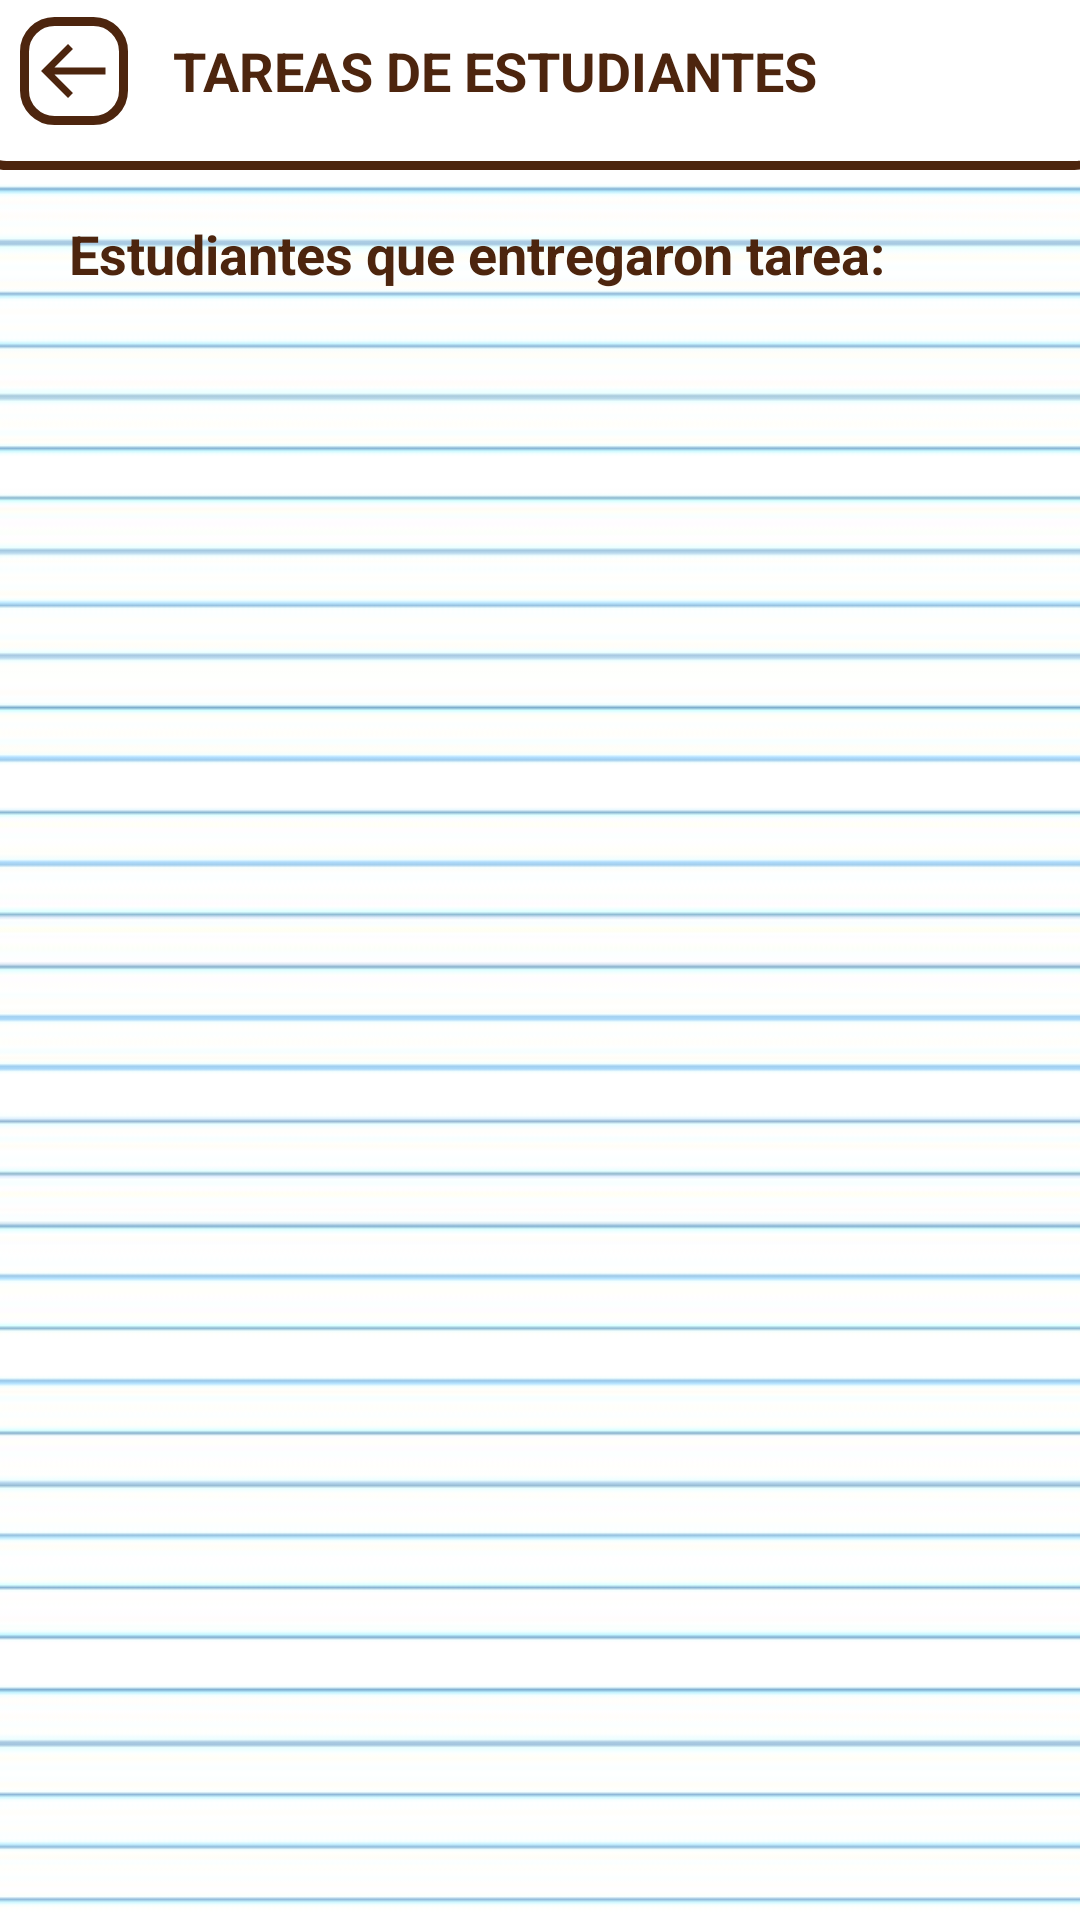

Screen size 1080×1920. Icon name, then its box in pixels as region(x1, y1, x2, y2):
arrow back brown: region(20, 17, 128, 125)
